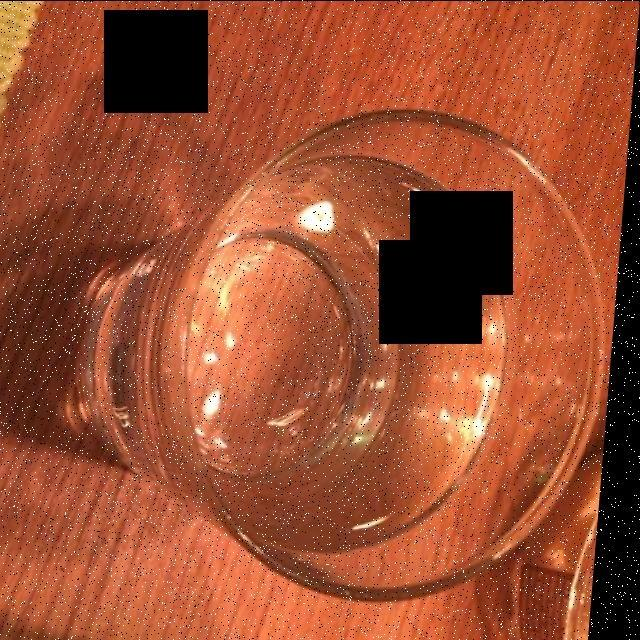water: (88, 129, 526, 551)
